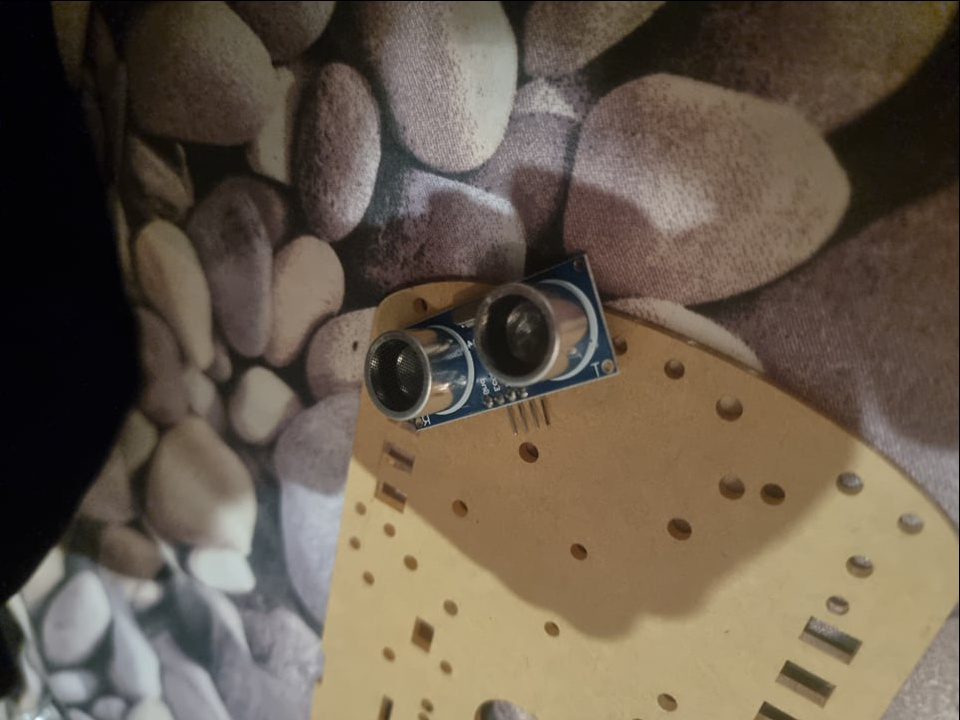SENSOR: (360, 251, 622, 430)
